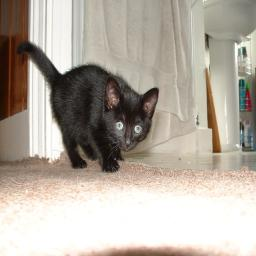catnose: (125, 136, 132, 148)
